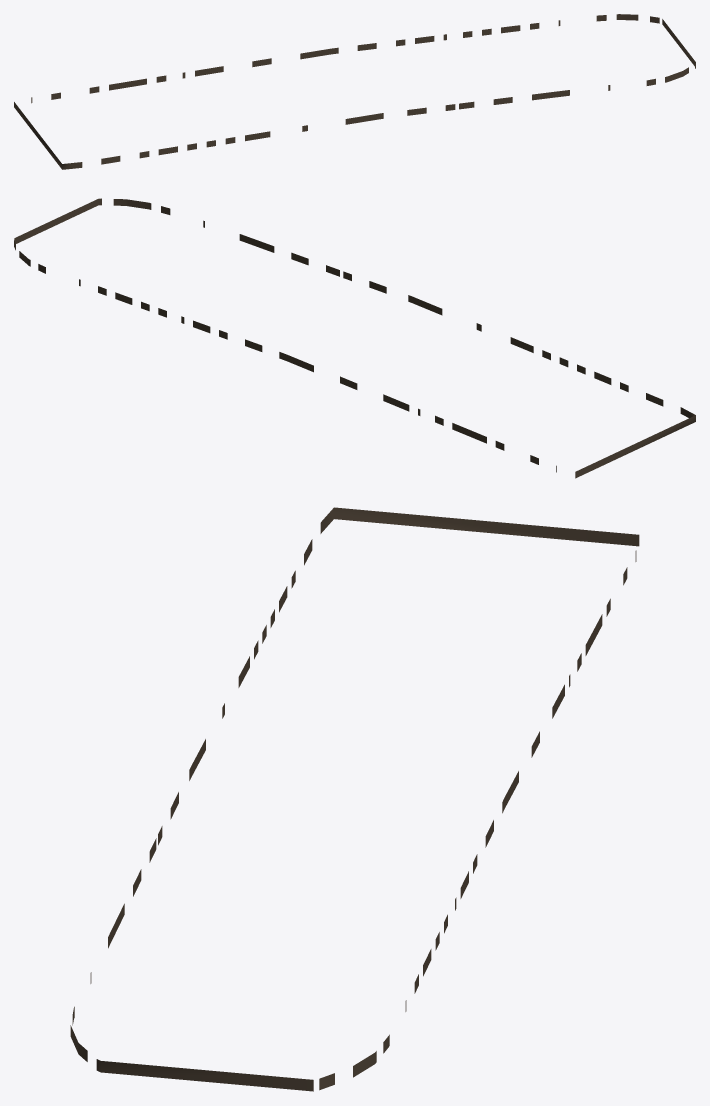
3 views of the same model, one above another, from view 1: azimuth 30°, elevation 25°; view 2: azimuth 150°, elevation 25°; view 3: azimuth 270°, elevation 25° (orthographic). The views are drawn at different scales.
Parts seen in each view (by area): view 1: prototype; view 2: prototype; view 3: prototype.
Part boxes in pixels (box(x1,y1,x2,y2)): prototype: box(14, 14, 695, 169); prototype: box(14, 198, 695, 478); prototype: box(70, 507, 639, 1091).
Bounding box in the file's own units: 34.14 × 0.758 × 14.12.
